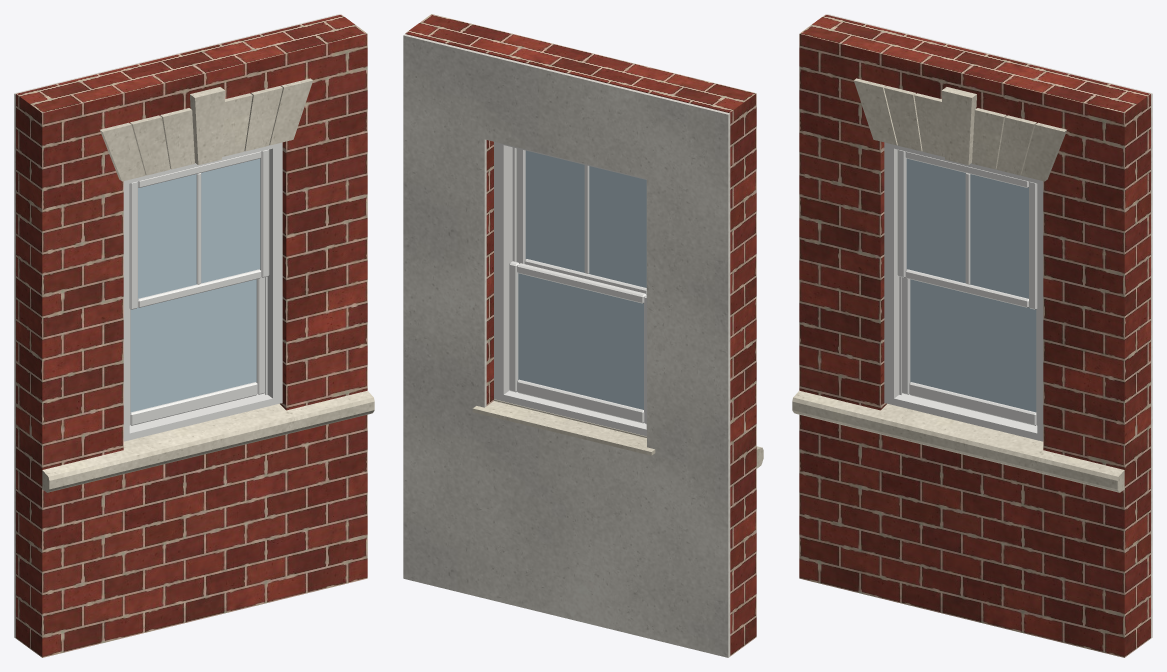
File: u2_wall_window.glb
The picture shows the model from 3 angles, left to right: view 1: azimuth 30°, elevation 25°; view 2: azimuth 150°, elevation 25°; view 3: azimuth 330°, elevation 25°; orthographic projection.
Parts seen in each view (by area): view 1: u2_wall_window_brick, u2_wall_window_glass, u2_wall_window_trim, u2_wall_window_frame, u2_wall_window_sash, u2_wall_window_plaster; view 2: u2_wall_window_plaster, u2_wall_window_glass, u2_wall_window_brick, u2_wall_window_sash, u2_wall_window_frame, u2_wall_window_trim; view 3: u2_wall_window_brick, u2_wall_window_glass, u2_wall_window_trim, u2_wall_window_frame, u2_wall_window_sash, u2_wall_window_plaster.
Part boxes in pixels (bbox=[...]): u2_wall_window_brick: bbox=[16, 14, 367, 657]; u2_wall_window_glass: bbox=[130, 158, 260, 412]; u2_wall_window_trim: bbox=[42, 78, 374, 492]; u2_wall_window_frame: bbox=[123, 142, 282, 441]; u2_wall_window_sash: bbox=[129, 149, 269, 425]; u2_wall_window_plaster: bbox=[14, 14, 340, 638]; u2_wall_window_plaster: bbox=[403, 34, 730, 657]; u2_wall_window_glass: bbox=[518, 150, 646, 409]; u2_wall_window_brick: bbox=[405, 14, 756, 656]; u2_wall_window_sash: bbox=[509, 148, 646, 424]; u2_wall_window_frame: bbox=[494, 142, 646, 436]; u2_wall_window_trim: bbox=[472, 399, 763, 468]; u2_wall_window_brick: bbox=[799, 14, 1150, 657]; u2_wall_window_glass: bbox=[906, 158, 1036, 412]; u2_wall_window_trim: bbox=[792, 78, 1124, 492]; u2_wall_window_frame: bbox=[884, 142, 1043, 441]; u2_wall_window_sash: bbox=[897, 149, 1037, 425]; u2_wall_window_plaster: bbox=[826, 14, 1152, 638].
Bounding box in the file's own units: 2 × 3.2 × 0.415.
Materials: 6 (3 with a texture image).
